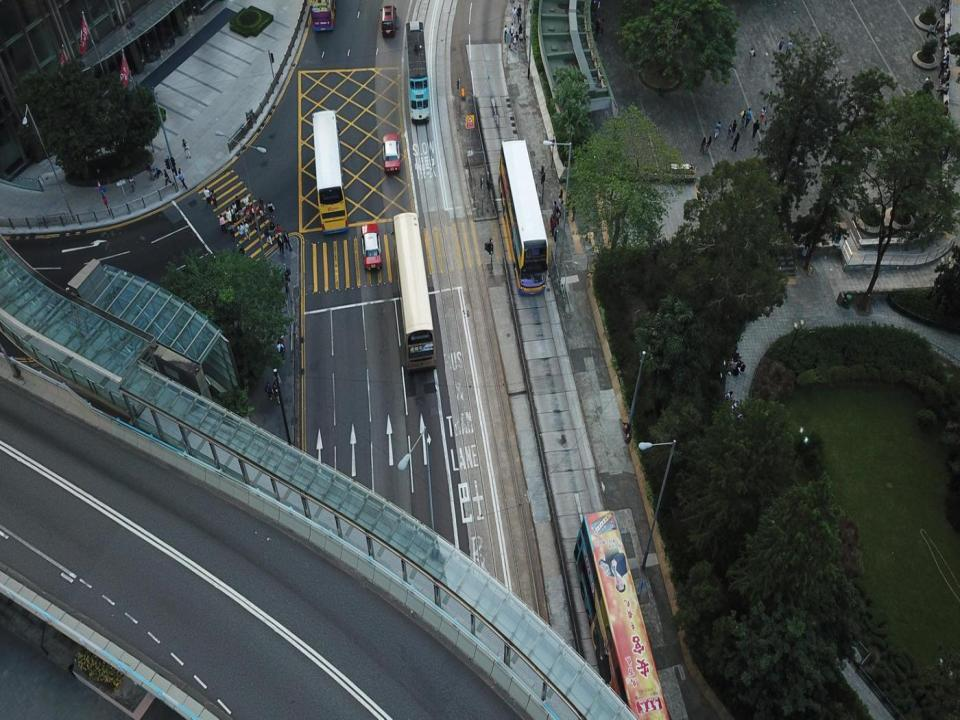bus: (572, 508, 674, 719), (498, 141, 548, 292), (392, 213, 434, 371), (312, 108, 348, 234), (406, 21, 430, 126)
car: (360, 222, 380, 273), (384, 130, 400, 174), (382, 6, 398, 38)
